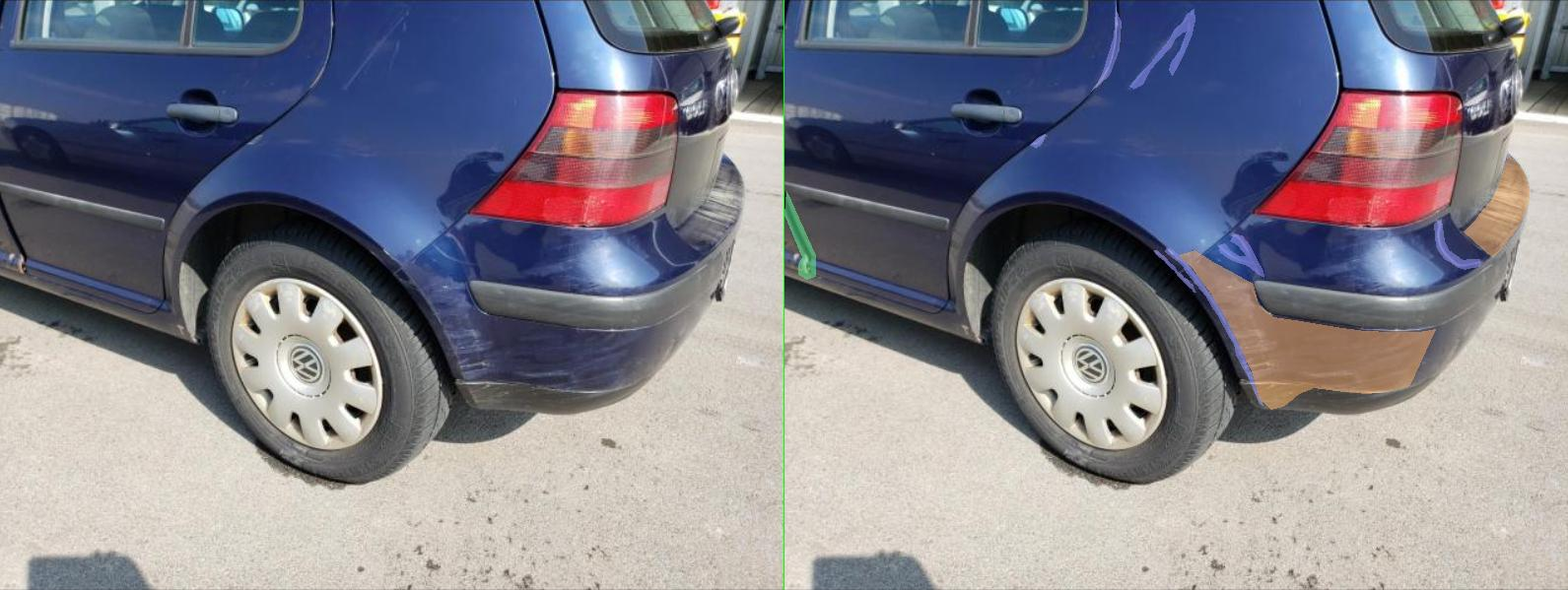Broken part: (0, 191, 61, 279)
Paint chip: (789, 250, 1302, 409), (1359, 155, 1489, 257)
Scratch: (761, 247, 957, 405), (690, 9, 820, 89), (613, 10, 673, 91), (1300, 219, 1390, 269), (868, 234, 959, 277), (740, 250, 822, 292), (491, 134, 521, 148)
